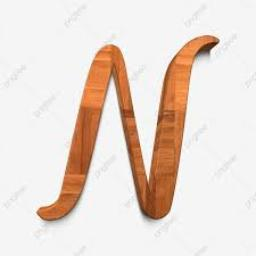n: (39, 29, 219, 233)
